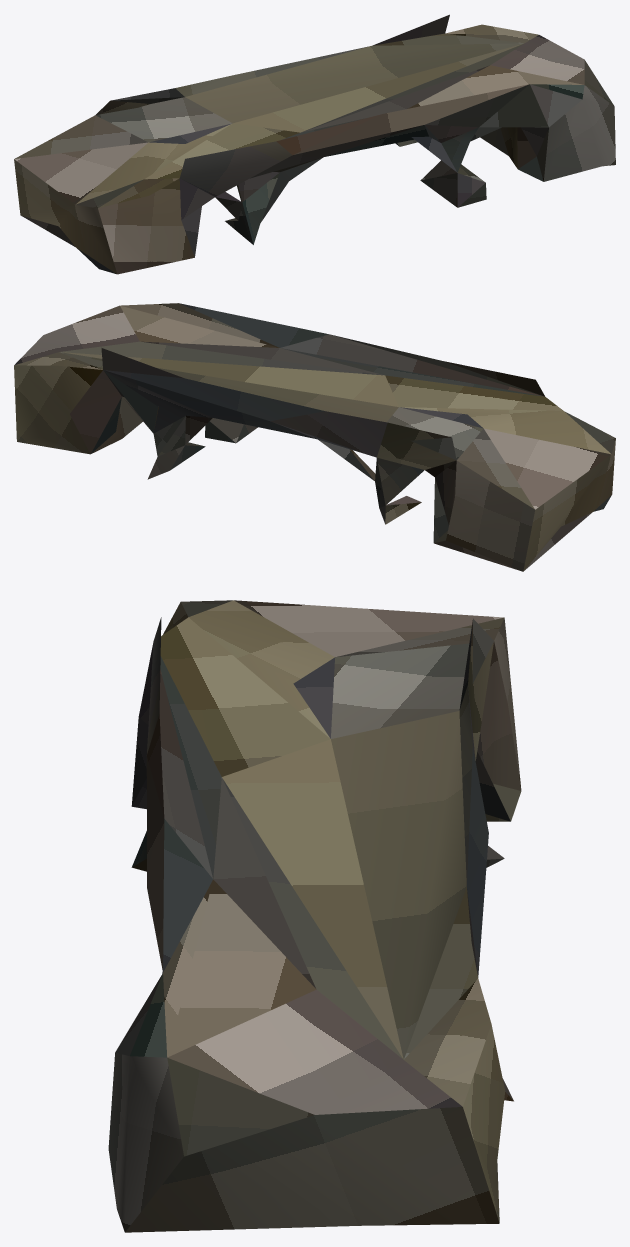
File: arch-bridge.collision.glb
The picture shows the model from 3 angles, top to bottom: view 1: azimuth 30°, elevation 25°; view 2: azimuth 150°, elevation 25°; view 3: azimuth 270°, elevation 25°; orthographic projection. The views are drawn at different scales.
Visible parts, largest first — view 1: output_unwrapped; view 2: output_unwrapped; view 3: output_unwrapped.
Boxes of the visible parts, box(x1,y1,x2,y2) form: output_unwrapped: box(14, 14, 615, 274); output_unwrapped: box(14, 303, 615, 571); output_unwrapped: box(108, 600, 521, 1232).
Size of the model in its own units: 1.88 by 0.372 by 0.6331.
1 material, 1 textured.
